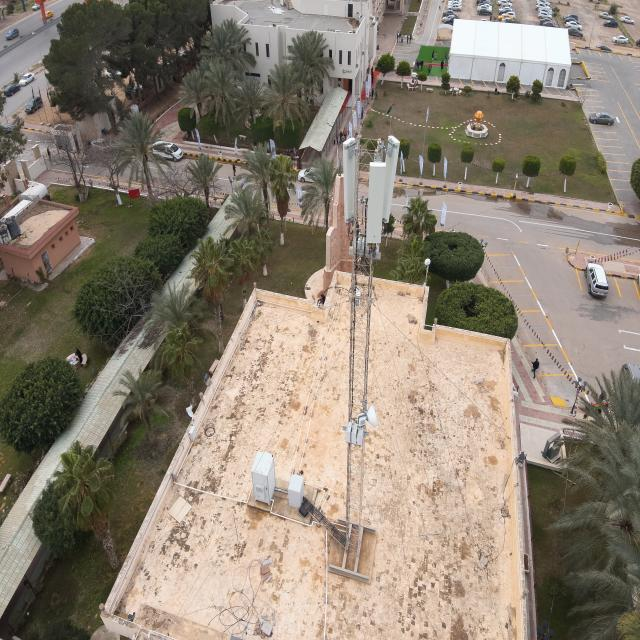antenna: (367, 159, 388, 245), (380, 134, 400, 223), (342, 135, 358, 223)
lighnig-rad: (359, 40, 362, 141)
microware-dish: (356, 404, 380, 427)
power-box: (345, 419, 366, 448)
radio-unit: (352, 234, 382, 256)
